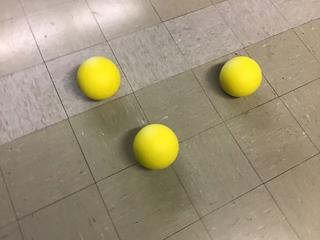power_cell: (130, 122, 181, 172), (75, 54, 124, 102), (218, 55, 264, 100)
